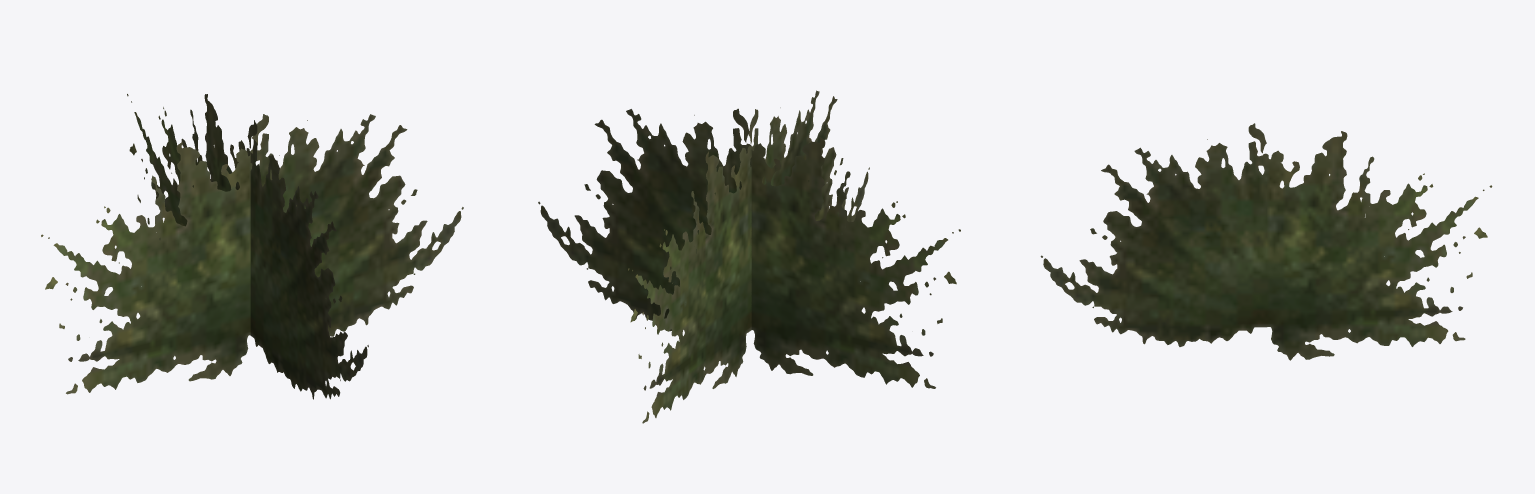
The model's file is shrb_arid_green_l1.fbx.
3 renders of one model, left to right at view 1: azimuth 30°, elevation 25°; view 2: azimuth 150°, elevation 25°; view 3: azimuth 270°, elevation 25°, orthographic. The views are drawn at different scales.
Parts seen in each view (by area): view 1: mesh_node; view 2: mesh_node; view 3: mesh_node.
Part boxes in pixels (x1=…): mesh_node: x1=41, y1=94, x2=463, y2=399; mesh_node: x1=538, y1=90, x2=960, y2=423; mesh_node: x1=1040, y1=123, x2=1492, y2=360.
Size of the model in its own units: 2.73 by 1.48 by 2.7.
Materials: 1 (1 with a texture image).
